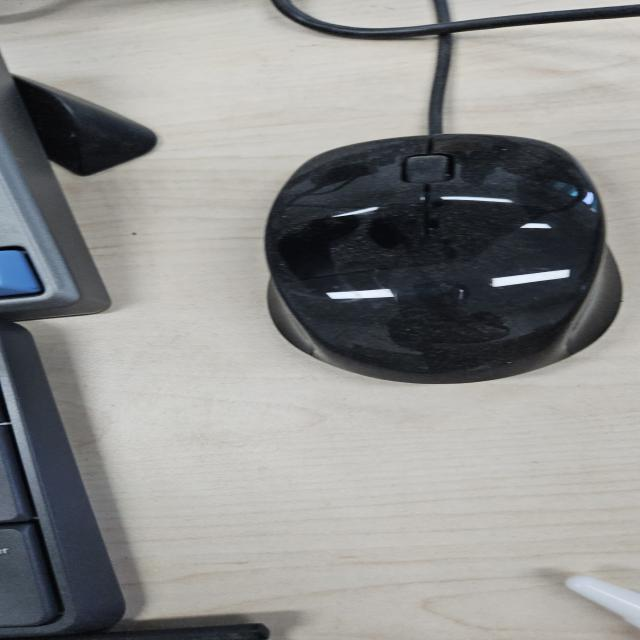Mouse: (260, 131, 624, 385)
